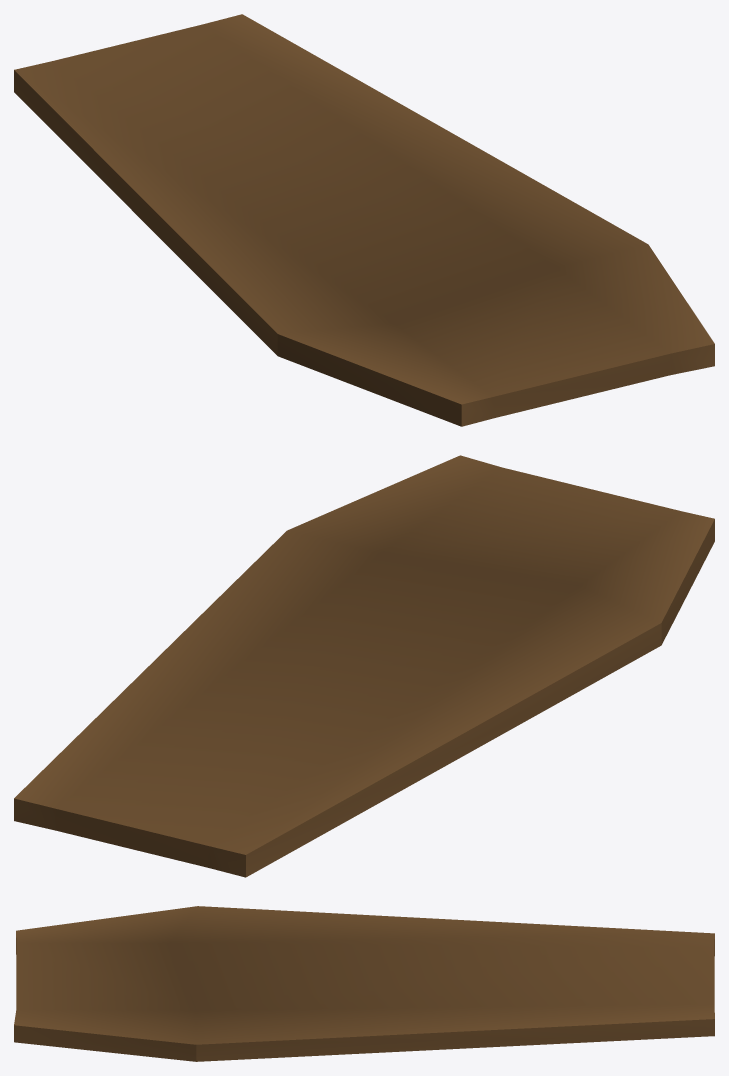
Rendered from obj_coffinCap_LOW.FBX.
3 views of the same model, one above another, from view 1: azimuth 30°, elevation 25°; view 2: azimuth 150°, elevation 25°; view 3: azimuth 270°, elevation 25° (orthographic). The views are drawn at different scales.
Visible parts, largest first — view 1: obj_coffinCap_LOW; view 2: obj_coffinCap_LOW; view 3: obj_coffinCap_LOW.
Boxes of the visible parts, x1,y1,x2,y2 form: obj_coffinCap_LOW: [14, 14, 714, 426]; obj_coffinCap_LOW: [14, 455, 714, 877]; obj_coffinCap_LOW: [14, 906, 714, 1061].
Size of the model in its own units: 1.54 by 0.0889 by 3.3.
